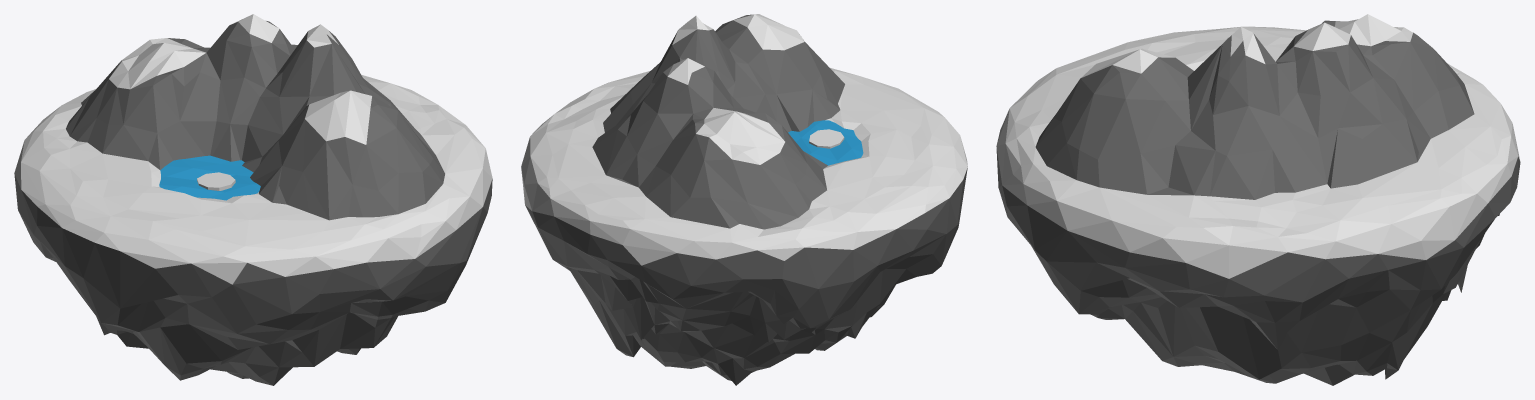
The model's file is sneeuwEiland.dae.
3 views of the same model, side by side, from view 1: azimuth 30°, elevation 25°; view 2: azimuth 150°, elevation 25°; view 3: azimuth 270°, elevation 25° (orthographic). The views are drawn at different scales.
Visible parts, largest first — view 1: Icosphere, Plane, Cylinder; view 2: Icosphere, Plane, Cylinder; view 3: Icosphere.
Boxes of the visible parts, left/top/right/bottom form: Icosphere: left=14, top=14, right=492, bottom=385; Plane: left=159, top=155, right=260, bottom=200; Cylinder: left=197, top=172, right=235, bottom=190; Icosphere: left=521, top=14, right=967, bottom=385; Plane: left=788, top=120, right=863, bottom=165; Cylinder: left=809, top=129, right=844, bottom=148; Icosphere: left=996, top=14, right=1520, bottom=385.
Size of the model in its own units: 19.87 by 19.95 by 15.94.
